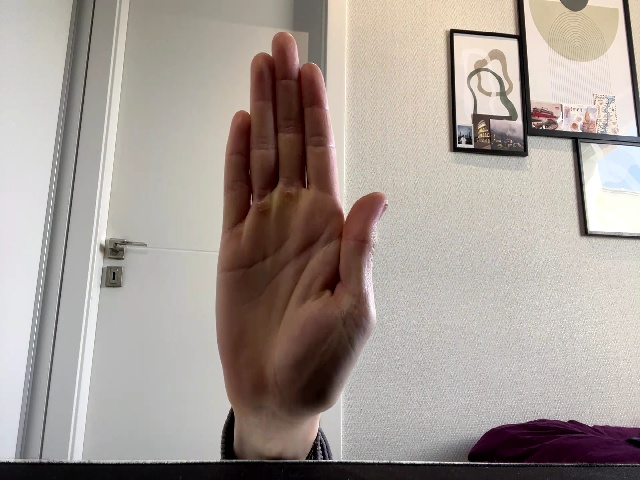B: (216, 32, 388, 426)
